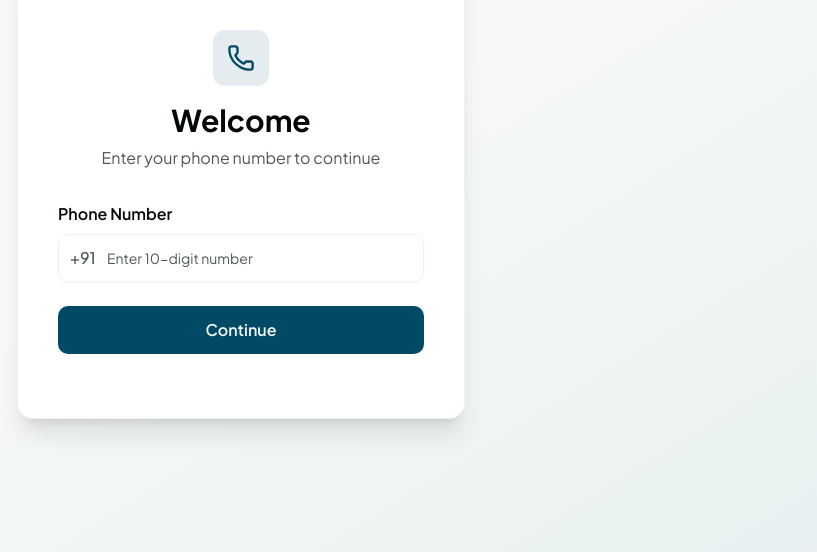
Test: LoginPage › shows validation and blocks invalid phone submission
Type "1234" into the field with placeholder "Enter 10-digit number".
click(241, 258); type("1234")  # box [58,234,424,282]
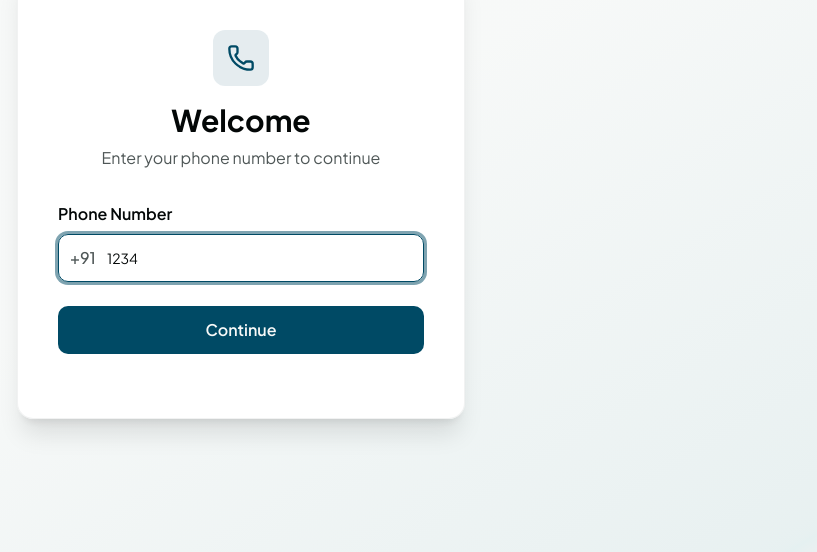
Click the button "Continue".
click(241, 330)  # box [58,306,424,354]
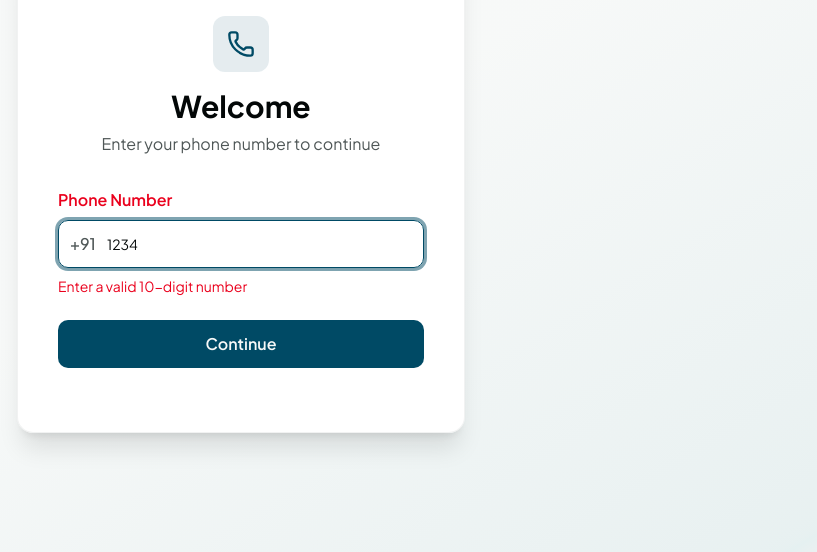
Result: the text "Enter a valid 10-digit number" is shown at [58,277,247,295]
